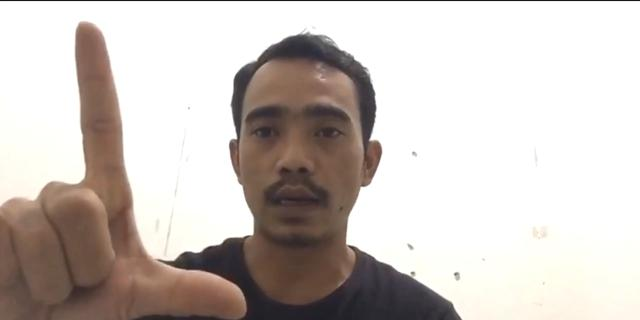L: (1, 0, 250, 320)
